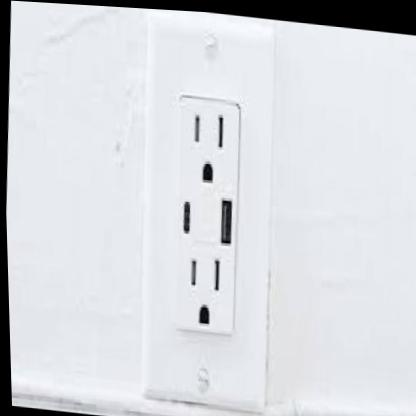OUTLET: (128, 9, 289, 411)
